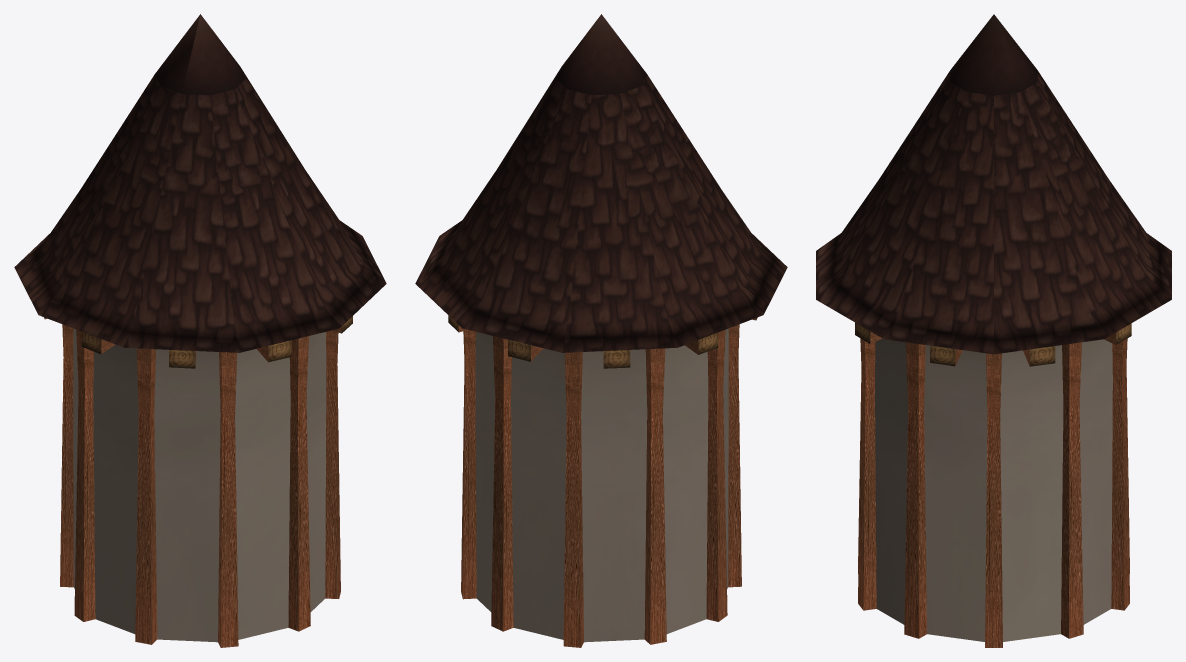
Rendered from fanasty_mod_round_tower_sml_wood.fbx.
3 views of the same model, side by side, from view 1: azimuth 30°, elevation 25°; view 2: azimuth 150°, elevation 25°; view 3: azimuth 270°, elevation 25° (orthographic).
Visible parts, largest first — view 1: round_tower_sml_wood; view 2: round_tower_sml_wood; view 3: round_tower_sml_wood.
Part boxes in pixels (bbox=[...]): round_tower_sml_wood: bbox=[14, 14, 386, 647]; round_tower_sml_wood: bbox=[415, 14, 787, 647]; round_tower_sml_wood: bbox=[816, 14, 1171, 647].
Bounding box in the file's own units: 5.28 × 8.95 × 5.02.
